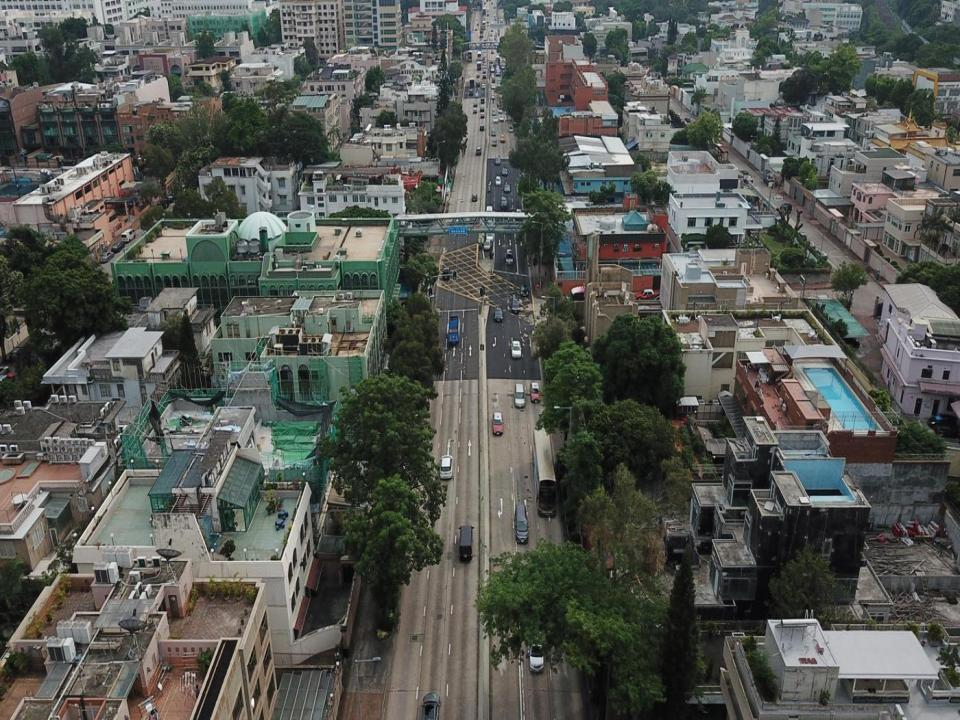bus: (532, 427, 558, 518), (495, 56, 500, 65)
car: (422, 694, 441, 719), (635, 286, 660, 302), (439, 454, 452, 477), (530, 382, 542, 403), (493, 411, 503, 435), (511, 339, 522, 357), (493, 306, 503, 321), (520, 281, 528, 297), (442, 267, 450, 280), (484, 239, 492, 250), (501, 166, 509, 176), (498, 134, 506, 144), (495, 154, 501, 166), (487, 230, 493, 241), (504, 183, 511, 192), (496, 176, 501, 186), (491, 90, 496, 100), (479, 104, 485, 112), (472, 192, 477, 201), (498, 103, 502, 114), (508, 126, 513, 134), (499, 114, 504, 122), (492, 82, 496, 92), (473, 100, 477, 108), (482, 73, 486, 81), (476, 89, 480, 97), (492, 108, 496, 116), (492, 128, 496, 135), (480, 123, 484, 130), (480, 112, 484, 119), (481, 82, 485, 89), (494, 115, 497, 123), (476, 72, 480, 78), (493, 138, 496, 145), (473, 108, 477, 113), (490, 65, 493, 70), (469, 89, 472, 94), (491, 71, 494, 75)
truck: (448, 314, 461, 344), (469, 78, 474, 90), (478, 58, 482, 70), (476, 49, 482, 56)
van: (528, 626, 544, 673), (514, 504, 528, 543), (459, 524, 474, 560), (514, 383, 526, 409), (511, 293, 520, 312), (505, 247, 513, 265), (486, 206, 493, 221), (501, 195, 508, 208), (476, 146, 482, 156), (496, 67, 500, 75)
